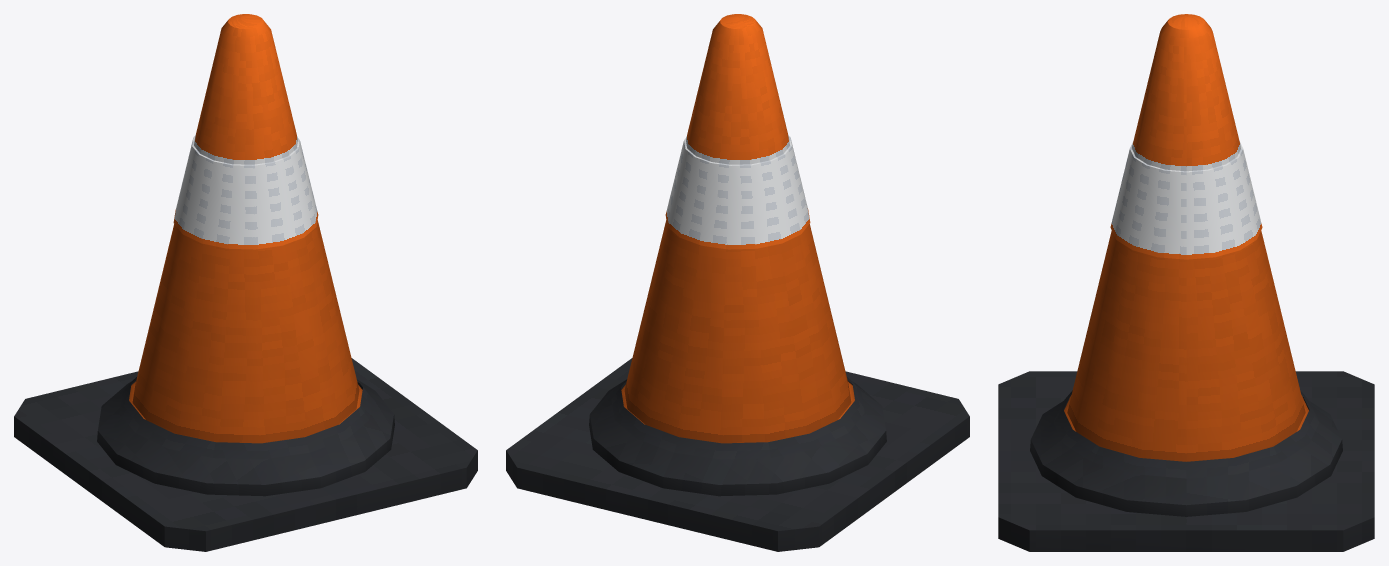
3 renders of one model, left to right at view 1: azimuth 30°, elevation 25°; view 2: azimuth 150°, elevation 25°; view 3: azimuth 270°, elevation 25°, orthographic. The views are drawn at different scales.
Parts seen in each view (by area): view 1: cone_lod0; view 2: cone_lod0; view 3: cone_lod0.
Part boxes in pixels (x1,y1,x2,y2): cone_lod0: (14, 14, 477, 551); cone_lod0: (506, 14, 969, 551); cone_lod0: (998, 14, 1374, 551).
Size of what is drawn, in the model's own units: 0.6 by 0.8 by 0.6.
1 material, 1 textured.
